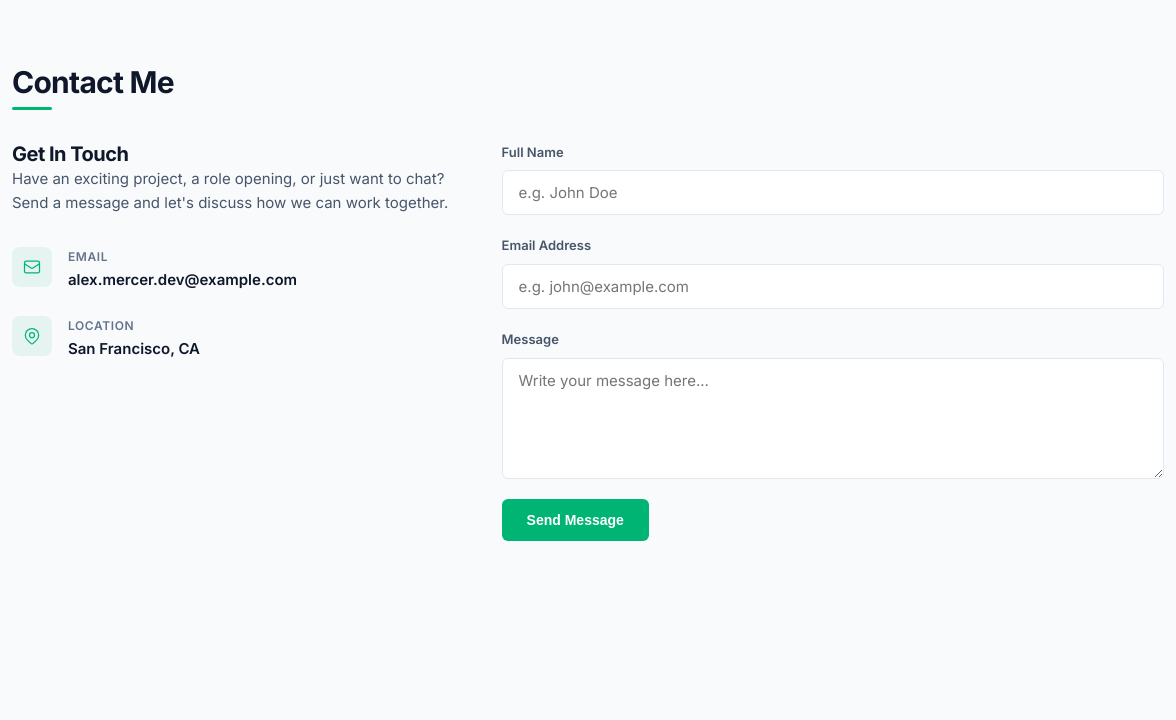
Scenario: SectionContact Component › shows validation errors for invalid email format and short message
This screenshot has width=1176, height=720.
Type "A" into the field with id "contact-name". click: point(833, 193)
box: [502,170,1164,215]
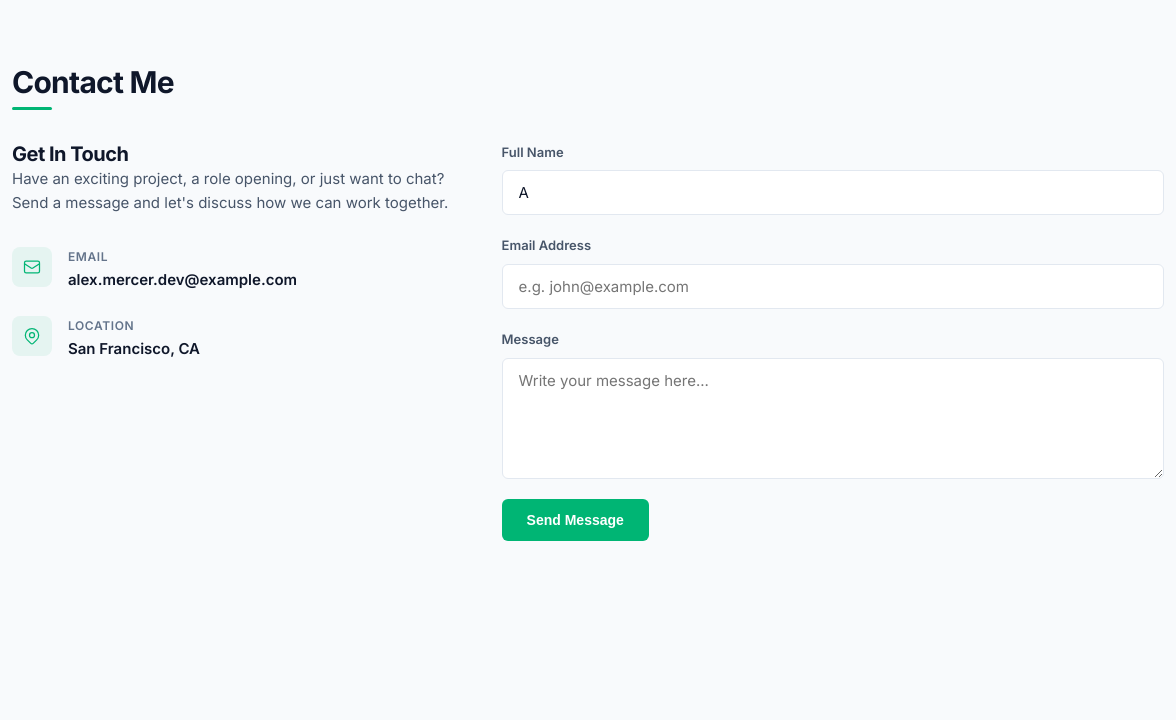
Type "invalid-email" into the field with id "contact-email". click: point(833, 287)
box: [502,264,1164,309]
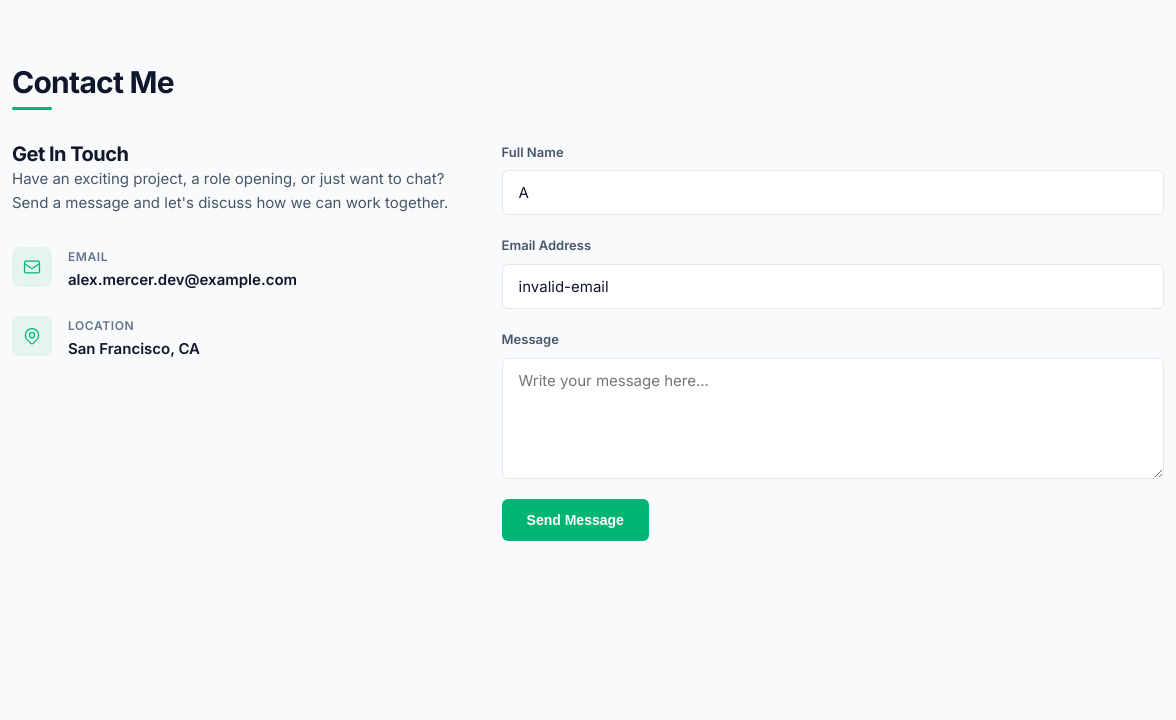
Type "short" into the text box with id "contact-message". click: point(833, 418)
box: [502,358,1164,479]
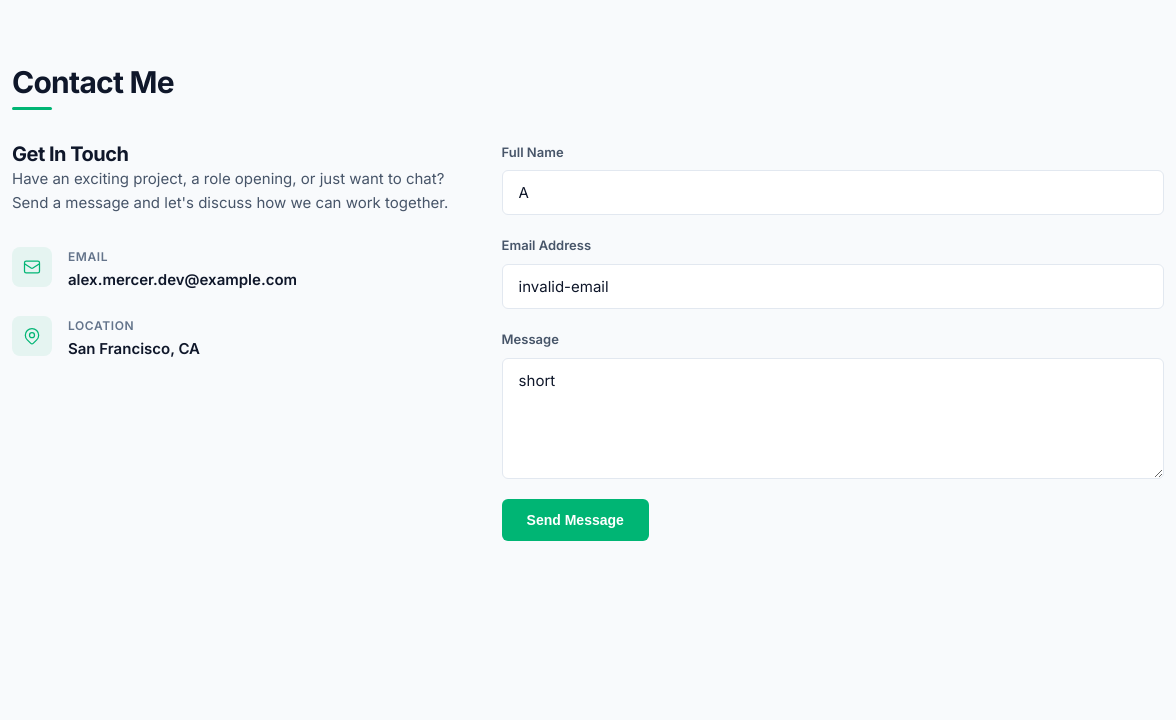
Submit the form, box [502,142,1164,541]
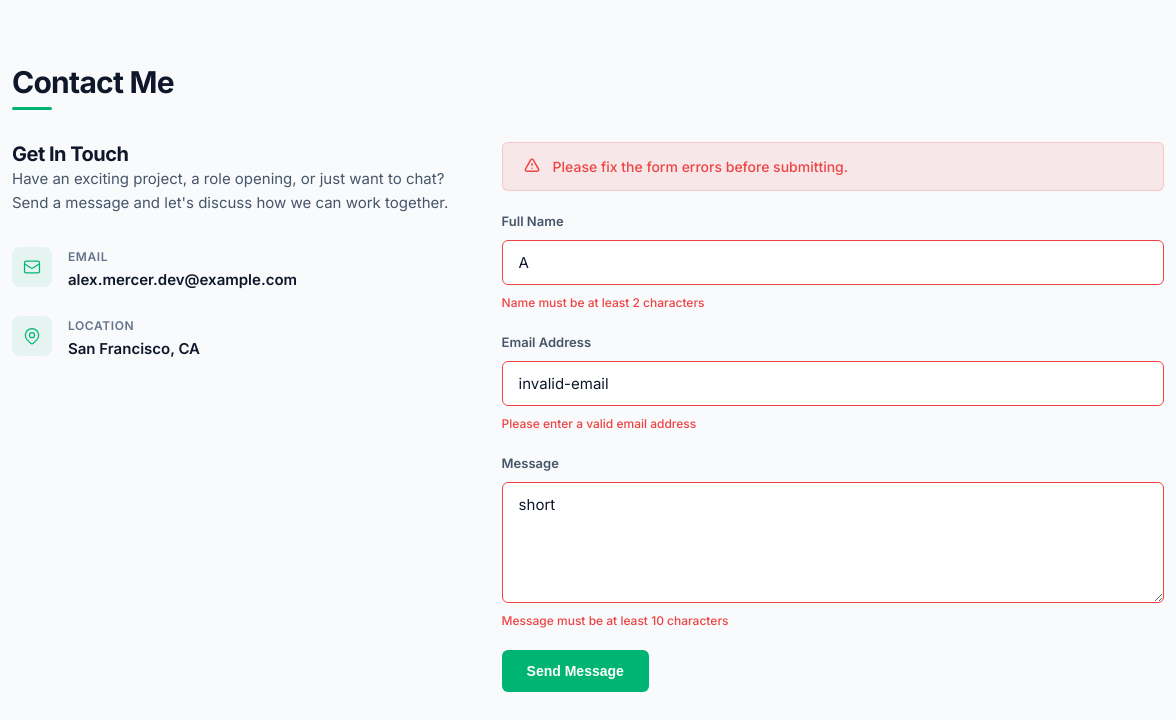
Expected: the text with id "name-error" reads "Name must be at least 2 characters", [502,295,704,310]
Expected: the text with id "email-error" reads "Please enter a valid email address", [502,416,696,431]
Expected: the text with id "message-error" reads "Message must be at least 10 characters", [502,613,728,628]
